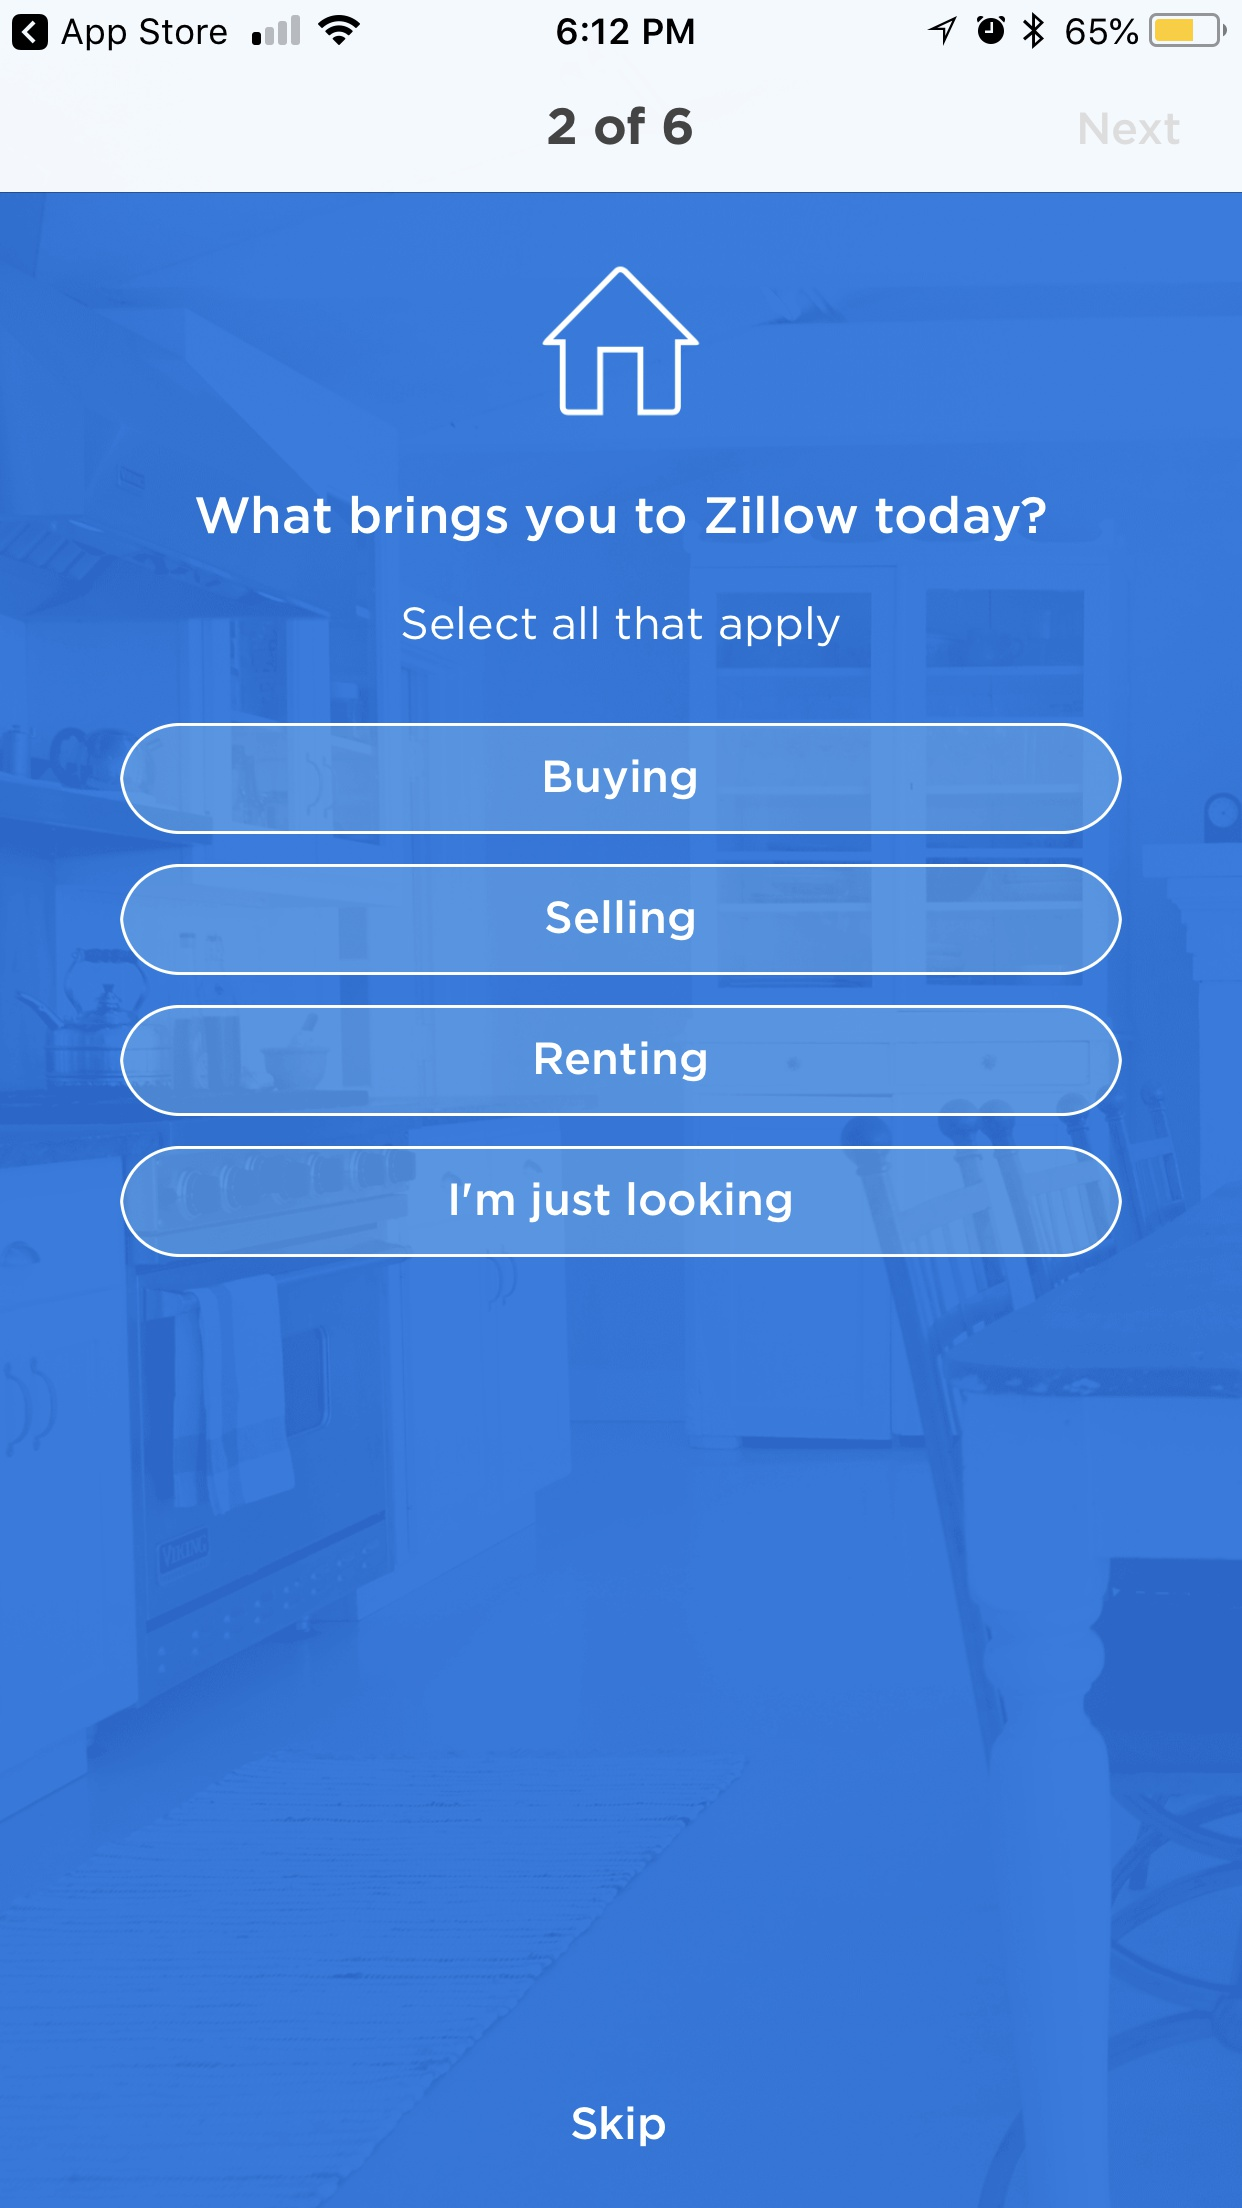BackgroundImage: (2, 193, 1242, 2208)
Icon: (541, 265, 701, 419)
Text: (196, 494, 1046, 543), (402, 605, 842, 648), (547, 106, 693, 147), (572, 2105, 667, 2147), (1080, 111, 1181, 147)
TextButton: (120, 723, 1124, 836), (120, 864, 1124, 977), (120, 1005, 1124, 1118), (120, 1146, 1124, 1259)
UpperTaskBar: (2, 2, 1242, 53)
